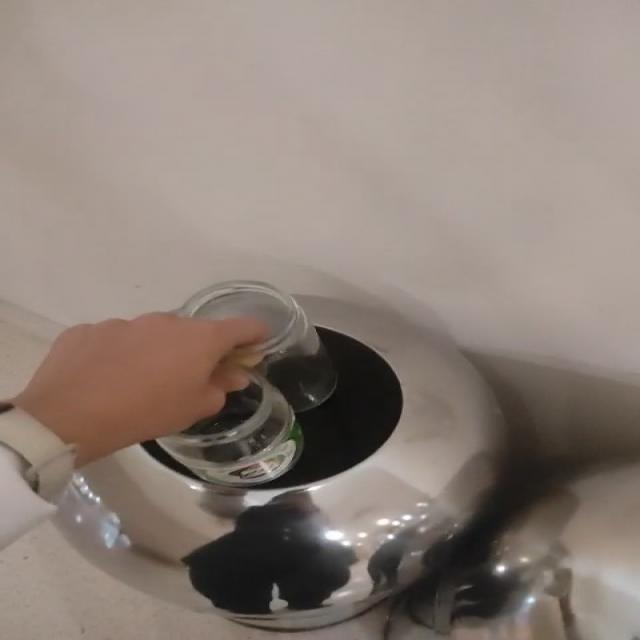glass: (157, 281, 337, 487)
